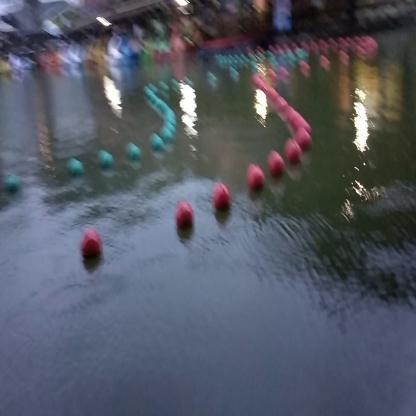green_buoy: (98, 150, 112, 171), (6, 172, 20, 193), (70, 156, 83, 178), (129, 144, 141, 165), (152, 136, 164, 154), (161, 128, 172, 147)
red_buoy: (82, 231, 102, 266), (176, 201, 195, 233), (247, 168, 264, 196), (215, 186, 230, 214), (269, 150, 283, 178), (287, 140, 301, 167), (296, 131, 310, 155)
